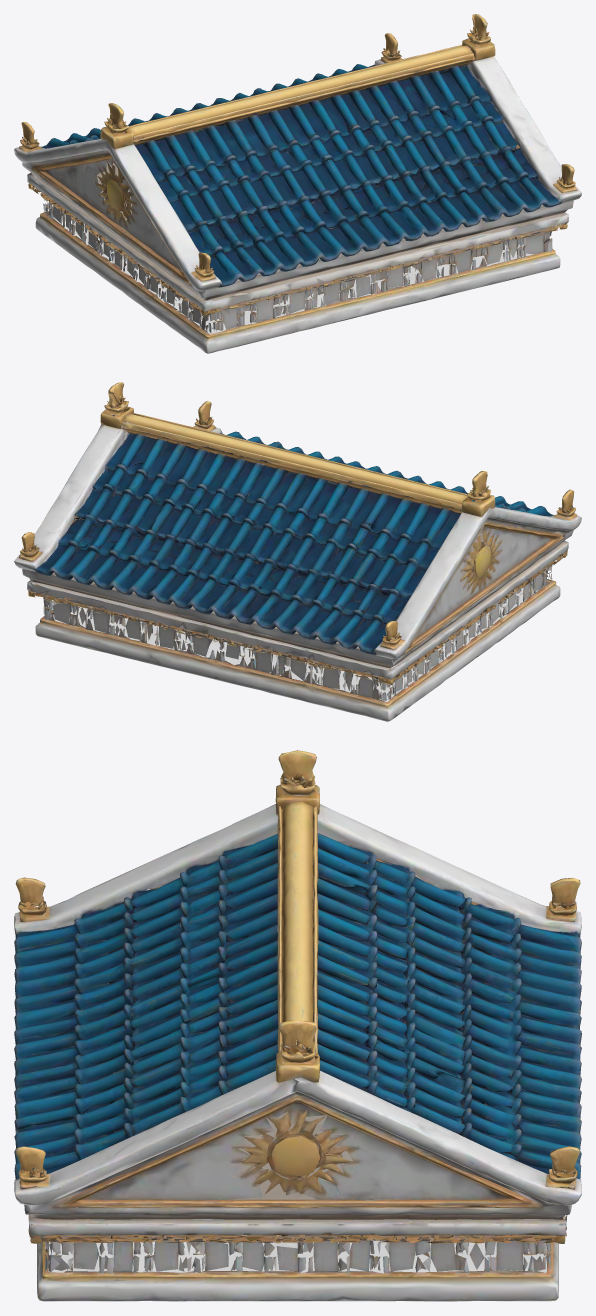
Rendered from roof_azure.glb.
3 renders of one model, top to bottom at view 1: azimuth 30°, elevation 25°; view 2: azimuth 150°, elevation 25°; view 3: azimuth 270°, elevation 25°, orthographic. The views are drawn at different scales.
Parts seen in each view (by area): view 1: geometry_0; view 2: geometry_0; view 3: geometry_0.
Part boxes in pixels (x1=…): geometry_0: x1=14, y1=14, x2=581, y2=353; geometry_0: x1=14, y1=382, x2=581, y2=721; geometry_0: x1=14, y1=750, x2=581, y2=1301.
Bounding box in the file's own units: 0.9999 × 0.4716 × 0.8481.
1 material, 1 textured.
